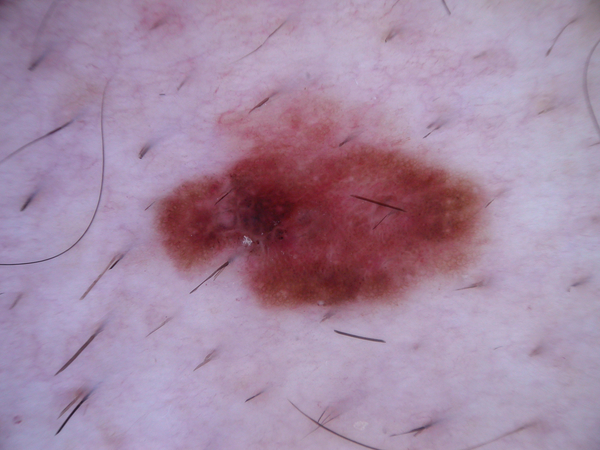Detected Lesion: (143, 119, 506, 319)
